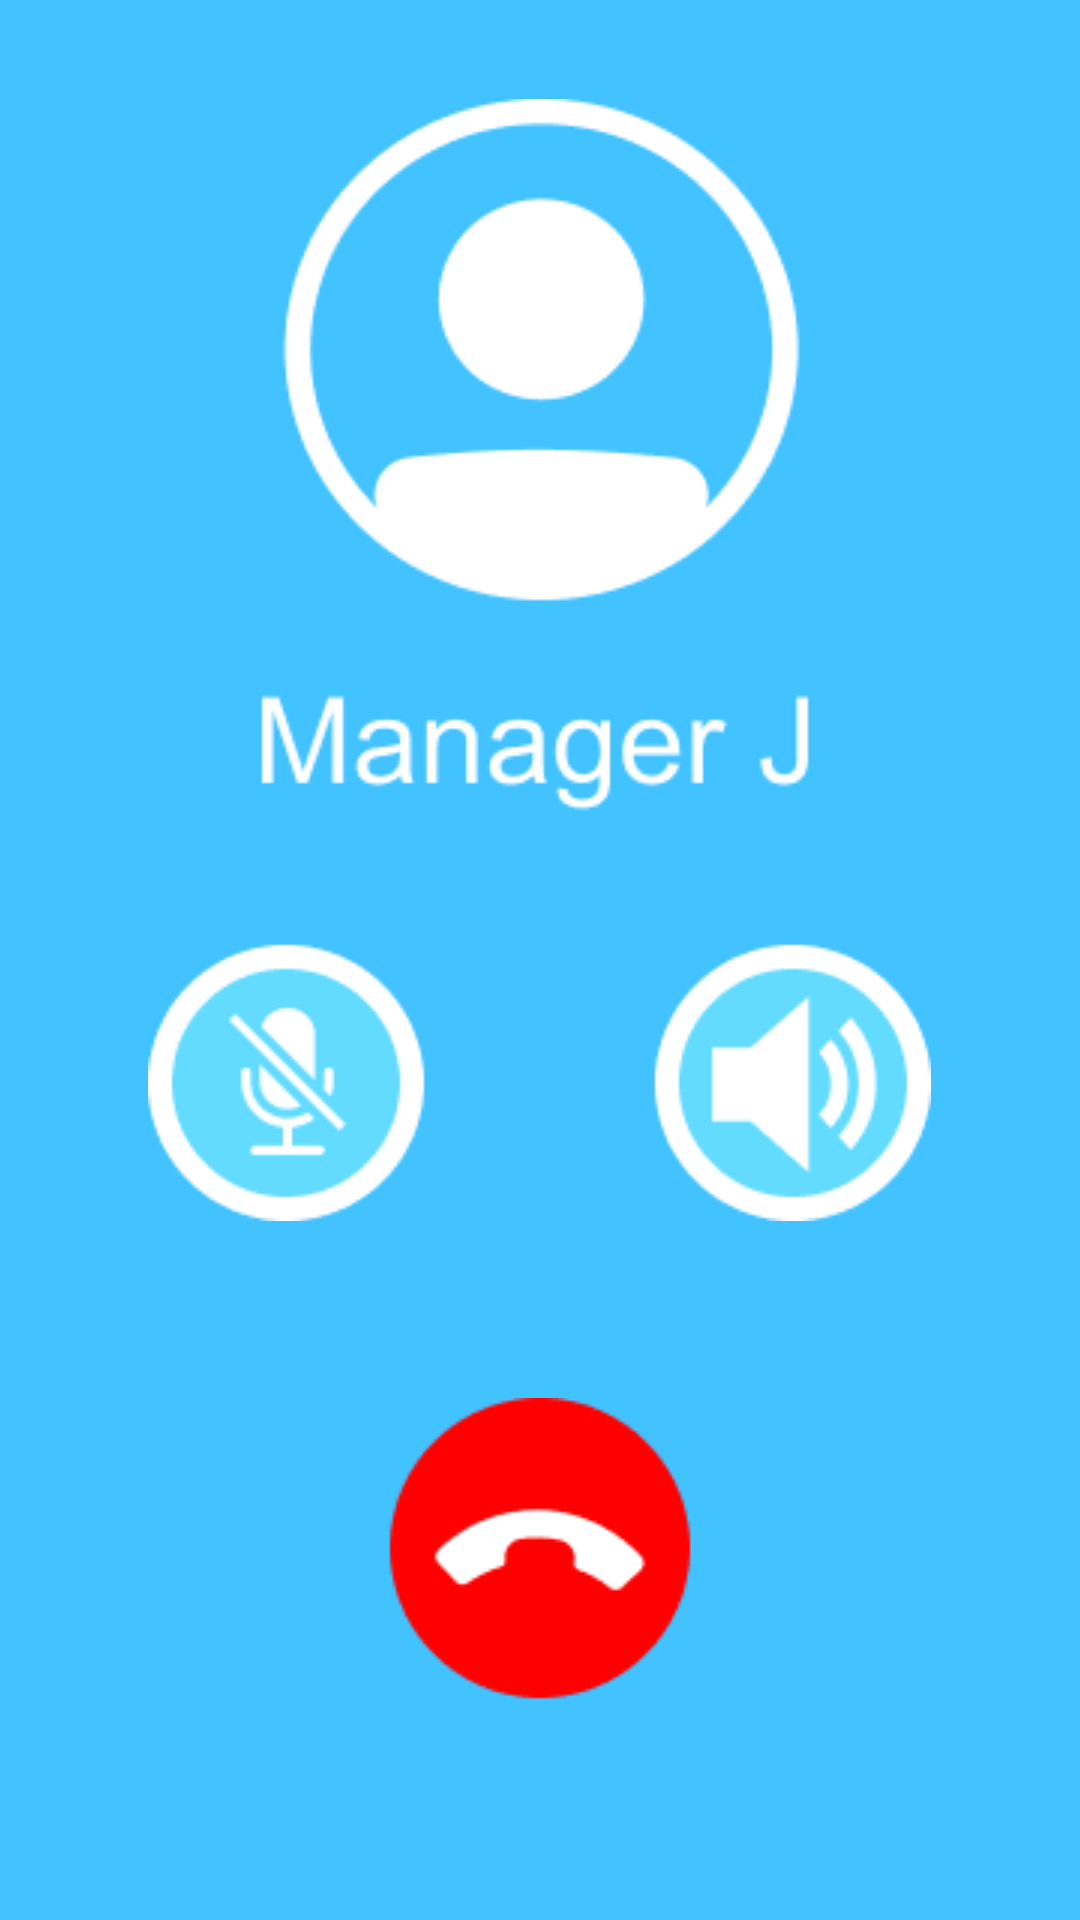

Named icons in this screenshot (1080px×1920px) and their centers, [x,y]:
endcallicon: [540,1548]
